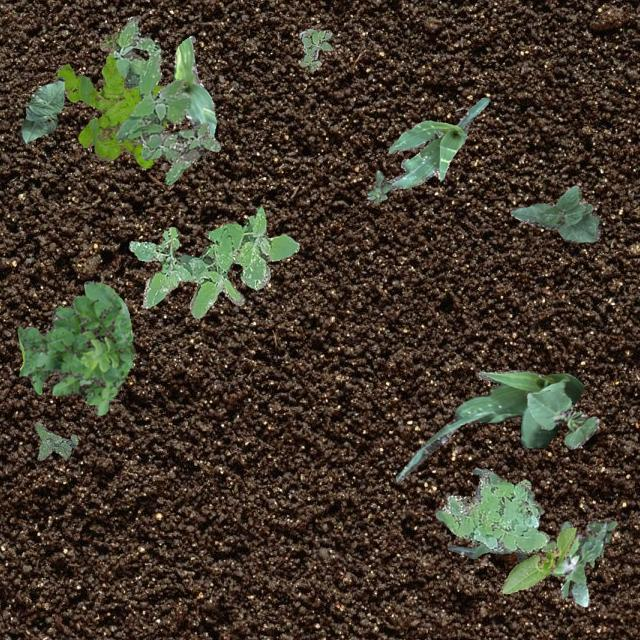crop: (396, 368, 582, 481), (382, 96, 488, 188), (447, 466, 542, 560), (510, 184, 600, 242), (500, 526, 574, 592), (172, 35, 215, 136), (526, 390, 598, 448), (18, 75, 64, 144)
weed: (128, 205, 298, 318), (113, 15, 220, 184), (17, 280, 134, 414), (54, 51, 162, 167), (434, 469, 548, 552), (540, 518, 616, 606), (34, 422, 76, 459), (298, 28, 332, 70), (366, 170, 390, 202), (100, 30, 118, 51)
